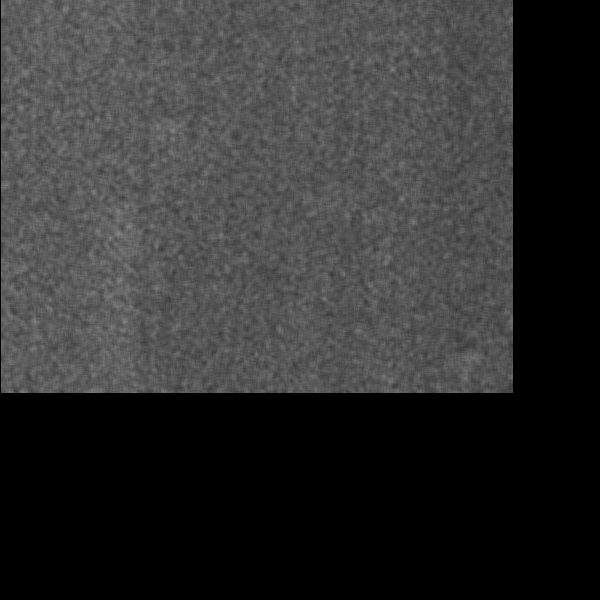spark: (443, 217, 480, 340)
